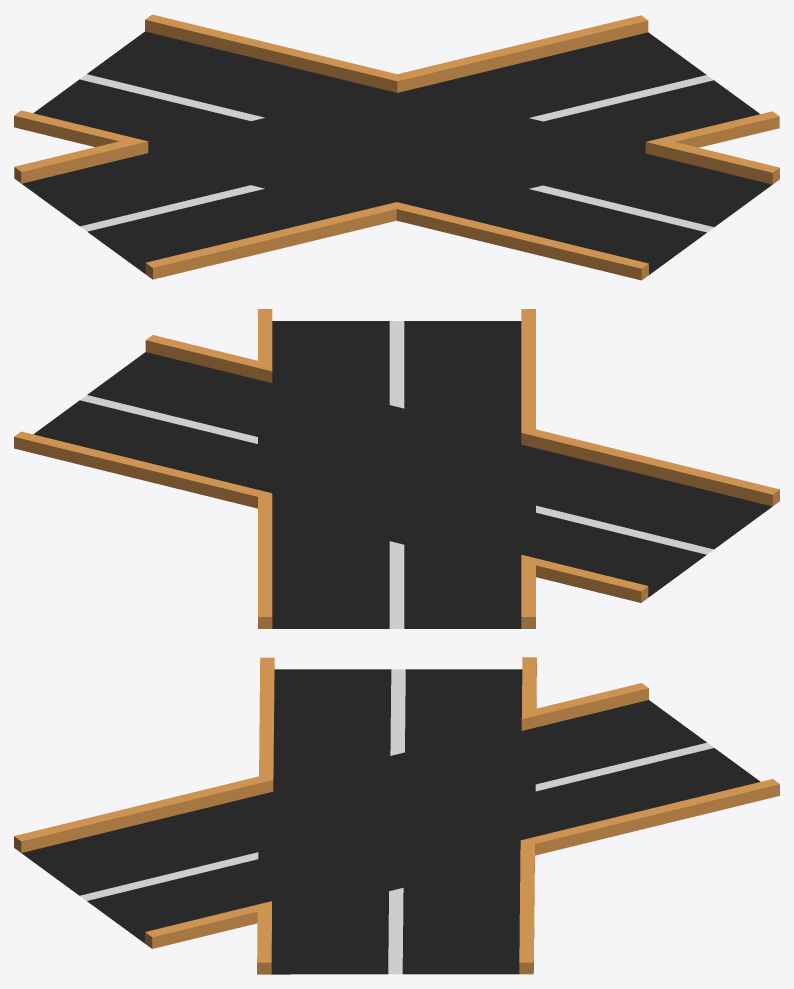
The model's file is Road_cross_60.fbx.
3 renders of one model, top to bottom at view 1: azimuth 30°, elevation 25°; view 2: azimuth 150°, elevation 25°; view 3: azimuth 270°, elevation 25°, orthographic.
Visible parts, largest first — view 1: Hex1.003; view 2: Hex1.003; view 3: Hex1.003.
Boxes of the visible parts, x1,y1,x2,y2 form: Hex1.003: [14, 14, 779, 280]; Hex1.003: [14, 309, 779, 628]; Hex1.003: [14, 657, 779, 974].
Size of the model in its own units: 100 by 1.79 by 106.
